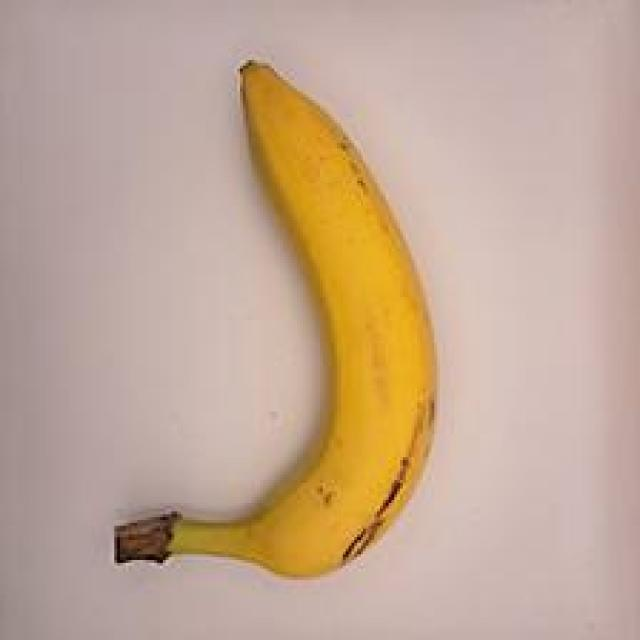Ripe: (80, 32, 448, 608)
